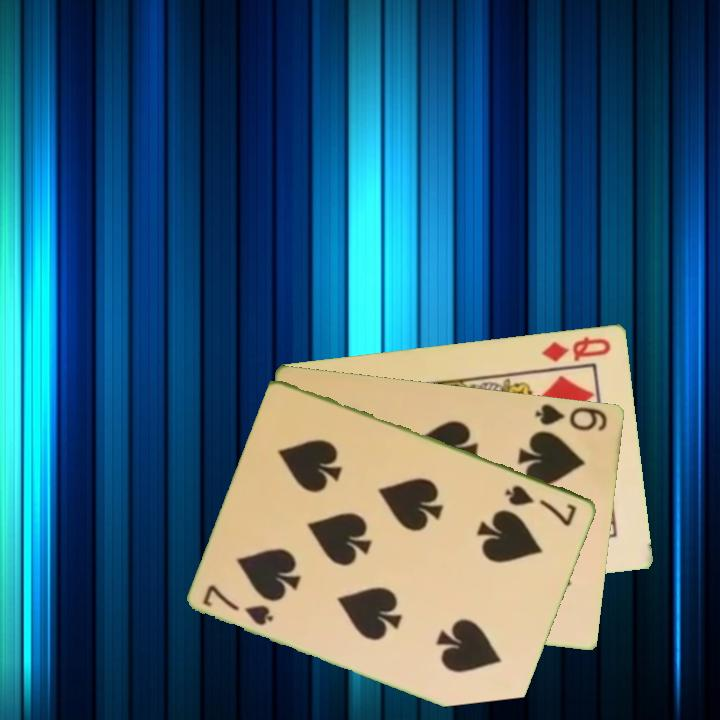6s: (532, 399, 611, 434)
7s: (502, 481, 580, 529), (199, 581, 277, 629)
Qd: (539, 332, 614, 364)
